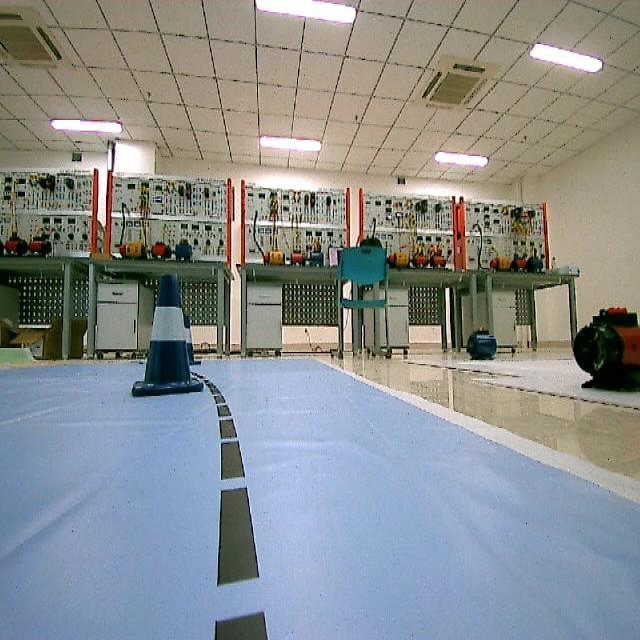obstacle: (125, 268, 205, 402)
